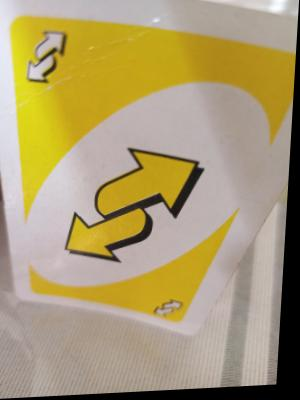reverse: (17, 21, 87, 95)
